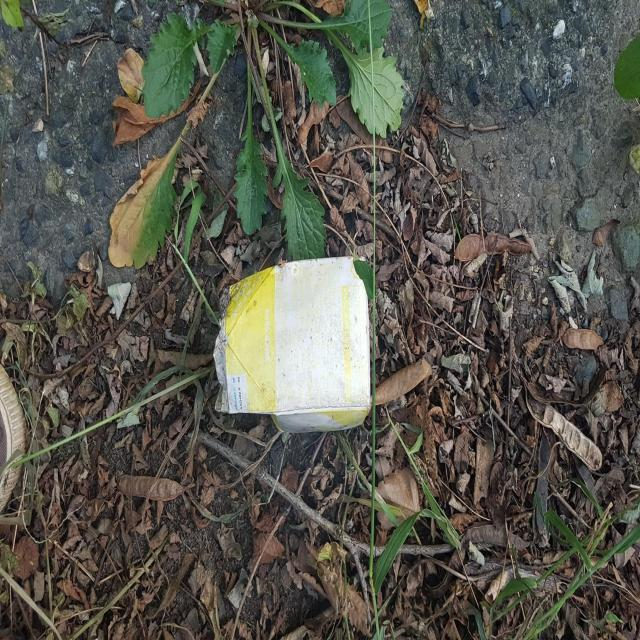paperpack: (214, 257, 371, 432)
